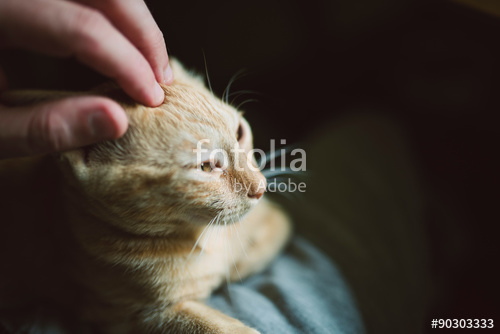finger: (3, 1, 170, 107), (90, 1, 185, 85)
